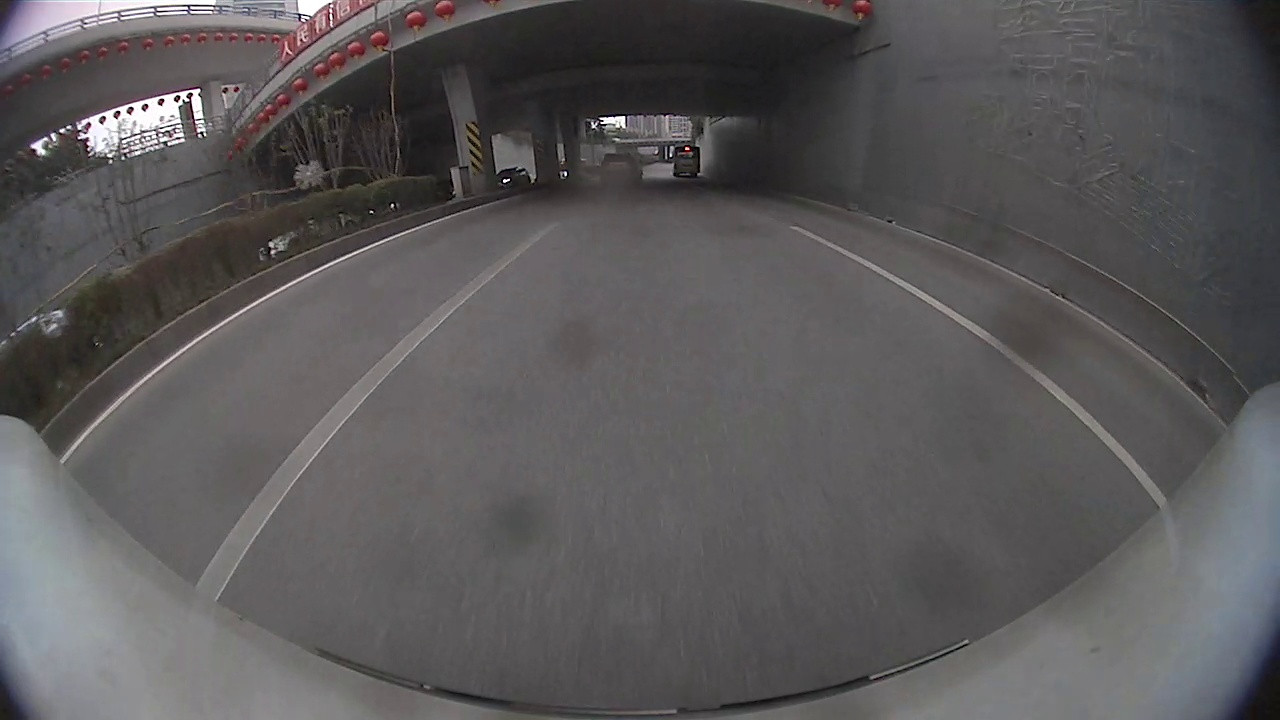car: (1, 306, 69, 350), (595, 150, 644, 187)
